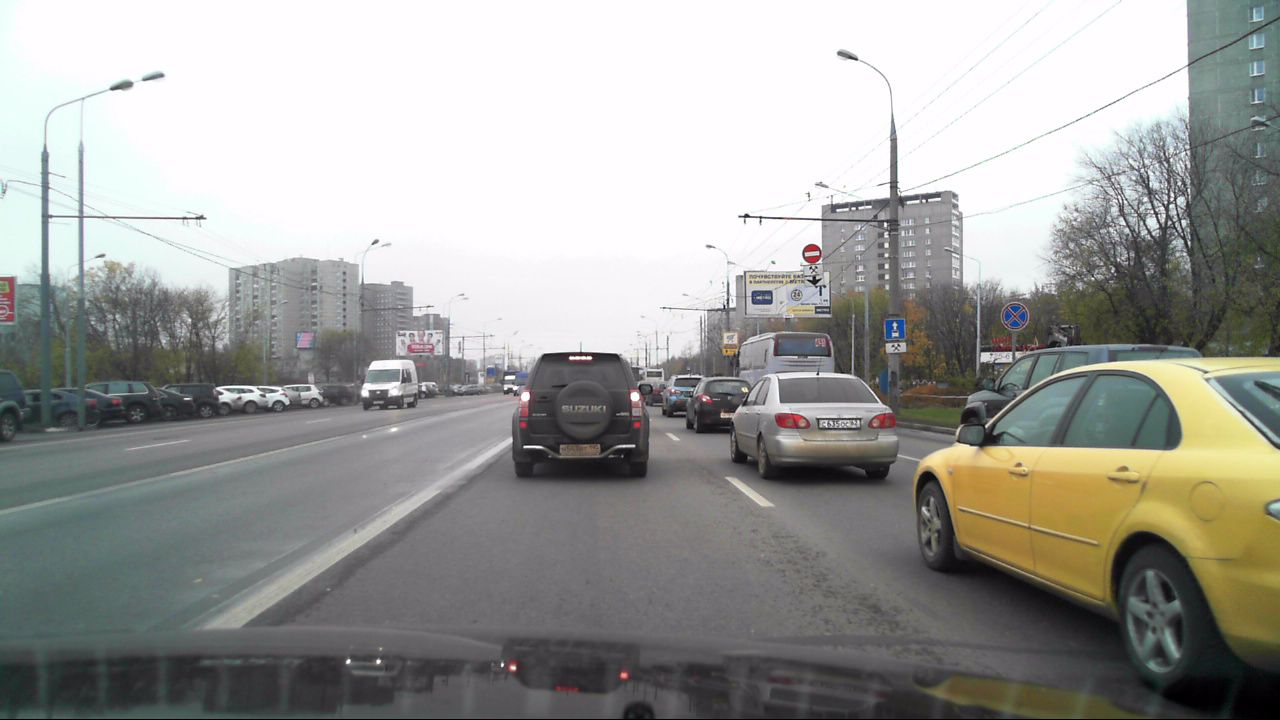No Parking: (1000, 301, 1031, 333)
